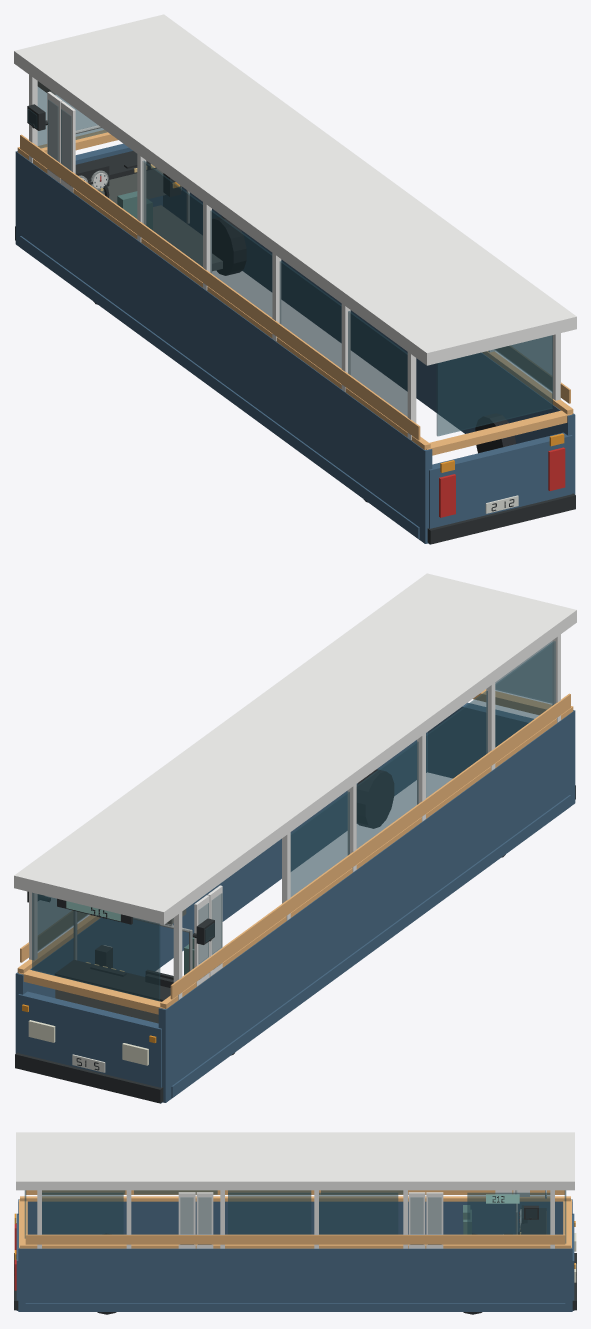
Rendered from bus_almaty_212_golden_hour.glb.
3 renders of one model, top to bottom at view 1: azimuth 30°, elevation 25°; view 2: azimuth 150°, elevation 25°; view 3: azimuth 270°, elevation 25°, orthographic. The views are drawn at different scales.
Parts seen in each view (by area): view 1: body_roof, body_lower_left, body_lower_right, window_rear, body_rear_lower, livery_side_window_band_left, livery_side_sill_left, window_side_left_2, window_side_left_1, window_side_left_3, window_side_left_0, bumper_rear (+17 smaller); view 2: body_roof, body_lower_left, body_lower_right, window_windshield, body_front_lower, livery_side_window_band_left, livery_side_sill_left, body_rear_lower, window_side_left_2, window_side_left_1, window_side_left_0, window_side_left_3 (+15 smaller); view 3: body_roof, body_lower_right, body_lower_left, livery_side_window_band_right, livery_side_sill_right, window_side_right_1, window_side_right_0, window_side_right_2, window_side_right_3, belt_left, belt_right, livery_side_window_band_left (+24 smaller).
Boxes of the visible parts, left/top/right/bottom form: body_roof: left=14, top=14, right=576, bottom=365; body_lower_left: left=15, top=151, right=432, bottom=543; body_lower_right: left=163, top=187, right=575, bottom=494; window_rear: left=436, top=335, right=552, bottom=436; body_rear_lower: left=428, top=432, right=572, bottom=544; livery_side_window_band_left: left=20, top=134, right=420, bottom=440; livery_side_sill_left: left=20, top=236, right=419, bottom=538; window_side_left_2: left=210, top=210, right=272, bottom=317; window_side_left_1: left=279, top=261, right=341, bottom=368; window_side_left_3: left=142, top=161, right=202, bottom=266; window_side_left_0: left=348, top=311, right=407, bottom=416; bumper_rear: left=427, top=493, right=575, bottom=544; body_roof: left=14, top=573, right=576, bottom=924; body_lower_left: left=158, top=710, right=575, bottom=1102; body_lower_right: left=15, top=732, right=427, bottom=1053; window_windshield: left=32, top=892, right=160, bottom=1001; body_front_lower: left=18, top=991, right=162, bottom=1103; livery_side_window_band_left: left=170, top=693, right=570, bottom=999; livery_side_sill_left: left=171, top=795, right=570, bottom=1097; body_rear_lower: left=428, top=702, right=533, bottom=778; window_side_left_2: left=356, top=741, right=418, bottom=848; window_side_left_1: left=426, top=690, right=487, bottom=797; window_side_left_0: left=495, top=641, right=555, bottom=747; window_side_left_3: left=290, top=791, right=349, bottom=896; body_roof: left=16, top=1132, right=574, bottom=1190; body_lower_right: left=18, top=1246, right=572, bottom=1311; body_lower_left: left=18, top=1199, right=572, bottom=1234; livery_side_window_band_right: left=25, top=1234, right=565, bottom=1244; livery_side_sill_right: left=25, top=1303, right=565, bottom=1311; window_side_right_1: left=228, top=1192, right=311, bottom=1234; window_side_right_0: left=42, top=1192, right=123, bottom=1234; window_side_right_2: left=319, top=1192, right=398, bottom=1234; window_side_right_3: left=467, top=1192, right=550, bottom=1234; belt_left: left=20, top=1196, right=570, bottom=1201; belt_right: left=20, top=1243, right=570, bottom=1248; livery_side_window_band_left: left=26, top=1190, right=564, bottom=1194.
Bounding box in the file's own units: 2.97 × 3.18 × 12.
